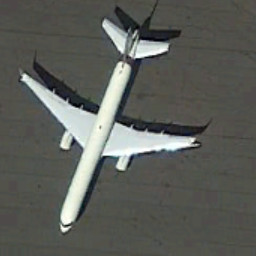Airplane: (12, 14, 209, 243)
